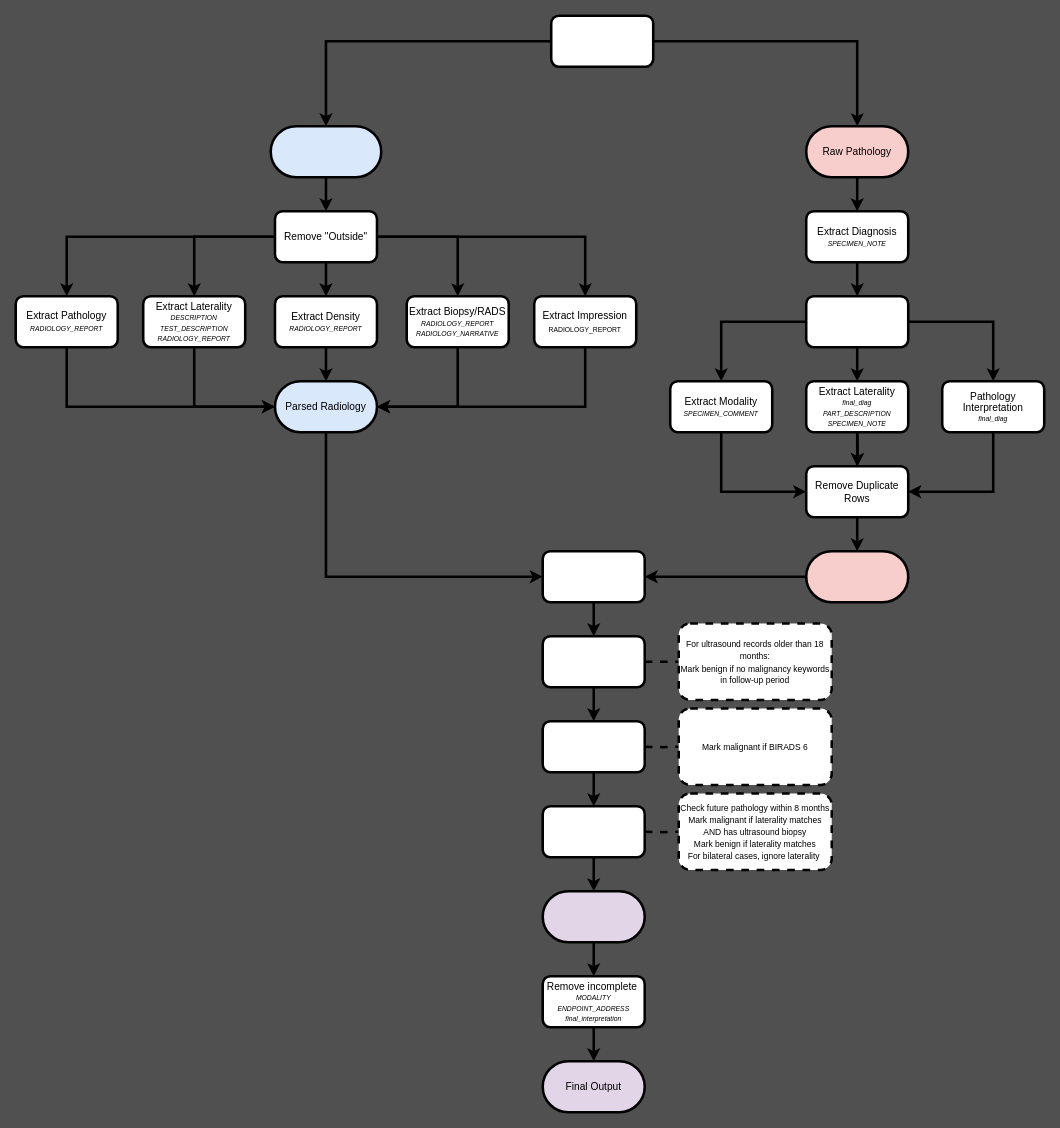
Some shapes in this 1060 by 1128 pixel diagram are drawn without their labels. The shapes that lost their labels are listed below. From the top down, each one's centre as x and y in pixels, then its label:
the point at 602,41: QUERY
the point at 325,151: Raw Radiology
the point at 857,321: Split Lesions final_diag
the point at 593,576: Stack Data RADIOLOGY_DTM SPECIMEN_RECEIVED_DTM
the point at 857,576: Parsed Pathology
the point at 593,661: Check for assumed benign cases BENIGN1
the point at 593,746: Check for malignant cases MALIGNANT1
the point at 593,831: Find matching path BENIGN2 MALIGNANT2
the point at 593,916: Combined Data
